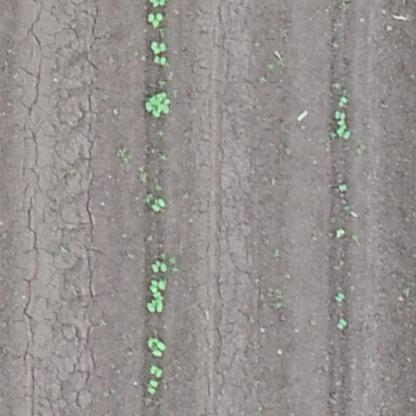vc: (146, 88, 172, 118), (333, 110, 351, 139), (147, 336, 166, 356), (145, 294, 164, 313), (149, 257, 170, 273), (145, 12, 164, 29), (150, 197, 168, 212), (335, 316, 350, 332), (150, 40, 167, 54), (144, 379, 158, 395), (149, 279, 166, 292), (335, 225, 347, 239), (149, 366, 164, 376), (152, 56, 167, 65), (337, 95, 348, 106), (334, 292, 344, 302), (338, 182, 346, 190)
